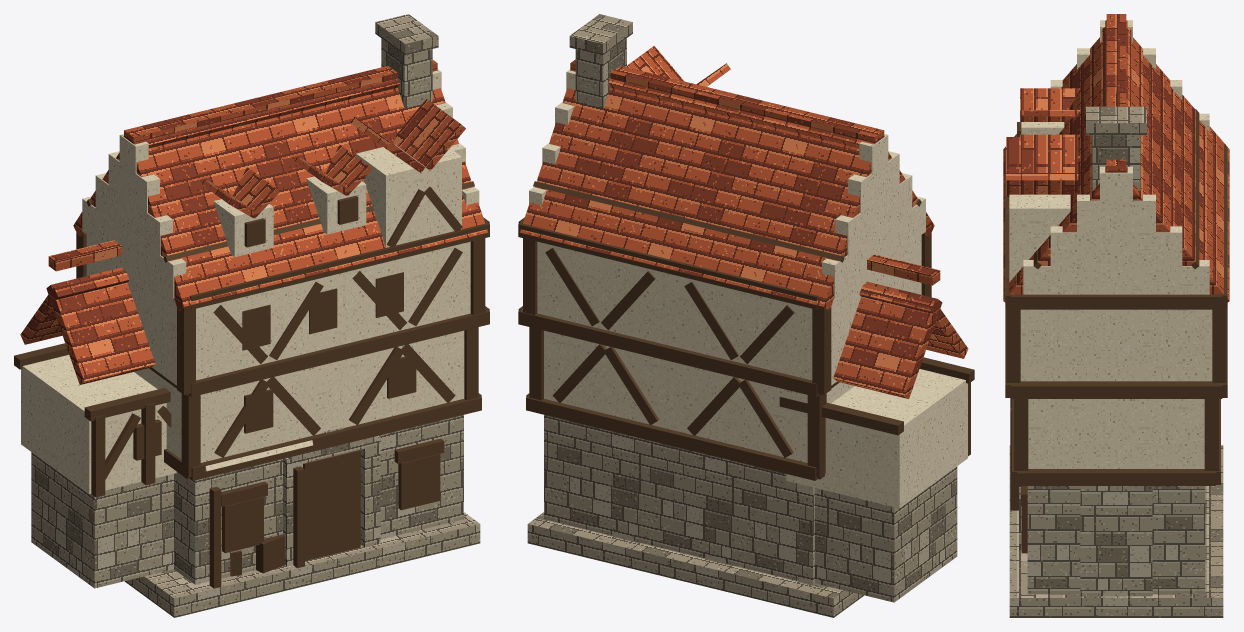
File: town_hall_t1.glb
3 renders of one model, left to right at view 1: azimuth 30°, elevation 25°; view 2: azimuth 150°, elevation 25°; view 3: azimuth 270°, elevation 25°, orthographic. The views are drawn at different scales.
Parts seen in each view (by area): view 1: roof_slab_1, storey_2, storey_1, west_wing_ground, ground_floor, west_wing_storey, plinth, west_wing_roof_1, gablet_body, door_slab, beam_y_1_1, ridge_cap (+52 smaller); view 2: roof_slab_0, ground_floor, storey_2, storey_1, west_wing_storey, west_wing_ground, plinth, west_wing_roof_0, beam_y_1_0, beam_y_0_0, ridge_cap, beam_y_2_0 (+25 smaller); view 3: storey_2, roof_slab_0, storey_1, ground_floor, plinth, chimney_base, gable_0_0, roof_slab_1, gable_0_1, beam_x_1_0, beam_x_2_0, beam_x_0_0 (+21 smaller).
Part boxes in pixels (bbox=[...]): roof_slab_1: bbox=[123, 88, 487, 310]; storey_2: bbox=[86, 235, 470, 385]; storey_1: bbox=[134, 330, 464, 462]; west_wing_ground: bbox=[31, 452, 173, 588]; ground_floor: bbox=[174, 415, 463, 584]; west_wing_storey: bbox=[21, 355, 176, 494]; plinth: bbox=[125, 512, 480, 617]; west_wing_roof_1: bbox=[46, 267, 155, 384]; gablet_body: bbox=[356, 144, 461, 247]; door_slab: bbox=[303, 450, 360, 560]; beam_y_1_1: bbox=[188, 310, 489, 396]; ridge_cap: bbox=[124, 60, 437, 142]; roof_slab_0: bbox=[520, 88, 884, 310]; ground_floor: bbox=[544, 415, 814, 584]; storey_2: bbox=[537, 235, 921, 385]; storey_1: bbox=[544, 330, 854, 462]; west_wing_storey: bbox=[786, 369, 967, 508]; west_wing_ground: bbox=[815, 466, 957, 602]; plinth: bbox=[527, 512, 863, 617]; west_wing_roof_0: bbox=[833, 281, 942, 398]; beam_y_1_0: bbox=[518, 309, 819, 396]; beam_y_0_0: bbox=[526, 396, 817, 480]; ridge_cap: bbox=[570, 59, 884, 143]; beam_y_2_0: bbox=[518, 220, 818, 309]; storey_2: bbox=[1020, 309, 1212, 381]; roof_slab_0: bbox=[1101, 20, 1229, 302]; storey_1: bbox=[1028, 399, 1204, 468]; ground_floor: bbox=[1027, 486, 1205, 594]; plinth: bbox=[1009, 445, 1223, 617]; chimney_base: bbox=[1080, 486, 1152, 596]; gable_0_0: bbox=[1023, 260, 1209, 294]; roof_slab_1: bbox=[1003, 20, 1131, 302]; gable_0_1: bbox=[1050, 226, 1182, 266]; beam_x_1_0: bbox=[1010, 381, 1222, 398]; beam_x_2_0: bbox=[1010, 294, 1222, 309]; beam_x_0_0: bbox=[1017, 469, 1215, 485].
Size of what is drawn, in the model's own units: 4.06 by 4.96 by 2.07.
4 materials, 3 textured.
